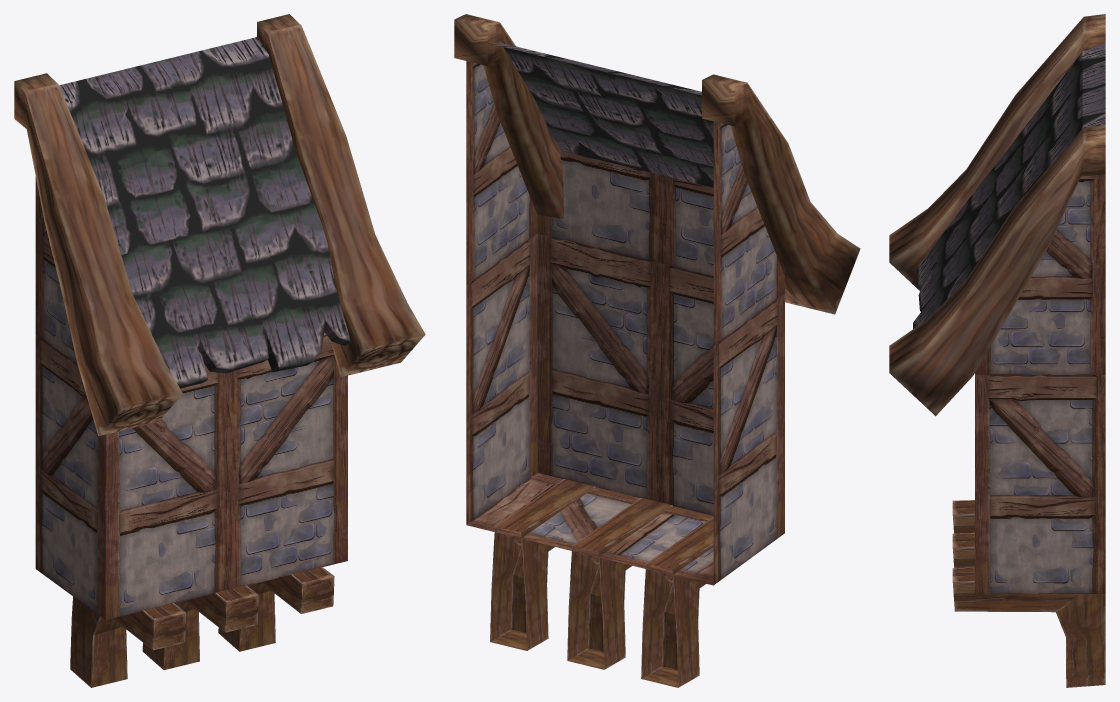
Rendered from wall_roof_triPillar1x1.fbx.
The picture shows the model from 3 angles, left to right: view 1: azimuth 30°, elevation 25°; view 2: azimuth 150°, elevation 25°; view 3: azimuth 270°, elevation 25°; orthographic projection. The views are drawn at different scales.
Parts seen in each view (by area): view 1: wall_roof_triPillar1x1; view 2: wall_roof_triPillar1x1; view 3: wall_roof_triPillar1x1.
Part boxes in pixels (left/top/right/bottom): wall_roof_triPillar1x1: left=14, top=14, right=425, bottom=687; wall_roof_triPillar1x1: left=454, top=14, right=860, bottom=687; wall_roof_triPillar1x1: left=889, top=14, right=1105, bottom=687.
Bounding box in the file's own units: 187 × 357 × 124.
